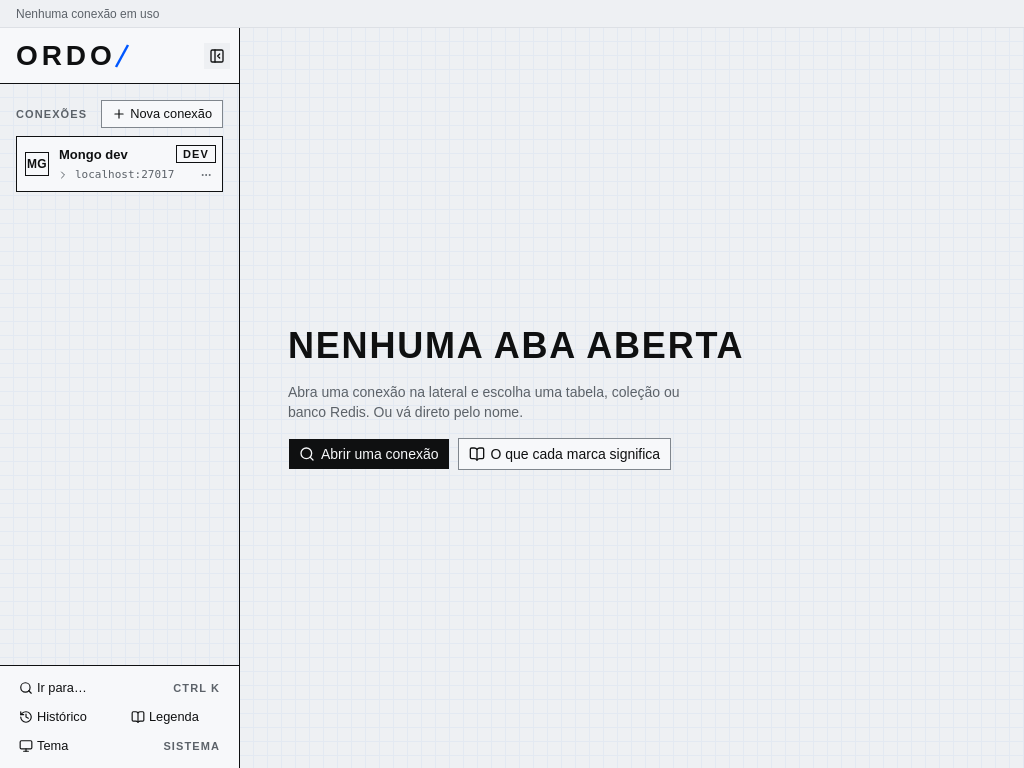
MongoDB opens databases and collections without a SQL editor
Click the list item "MG Mongo dev Dev localhost:27017": (120, 164) x1=17 y1=137 x2=222 y2=191
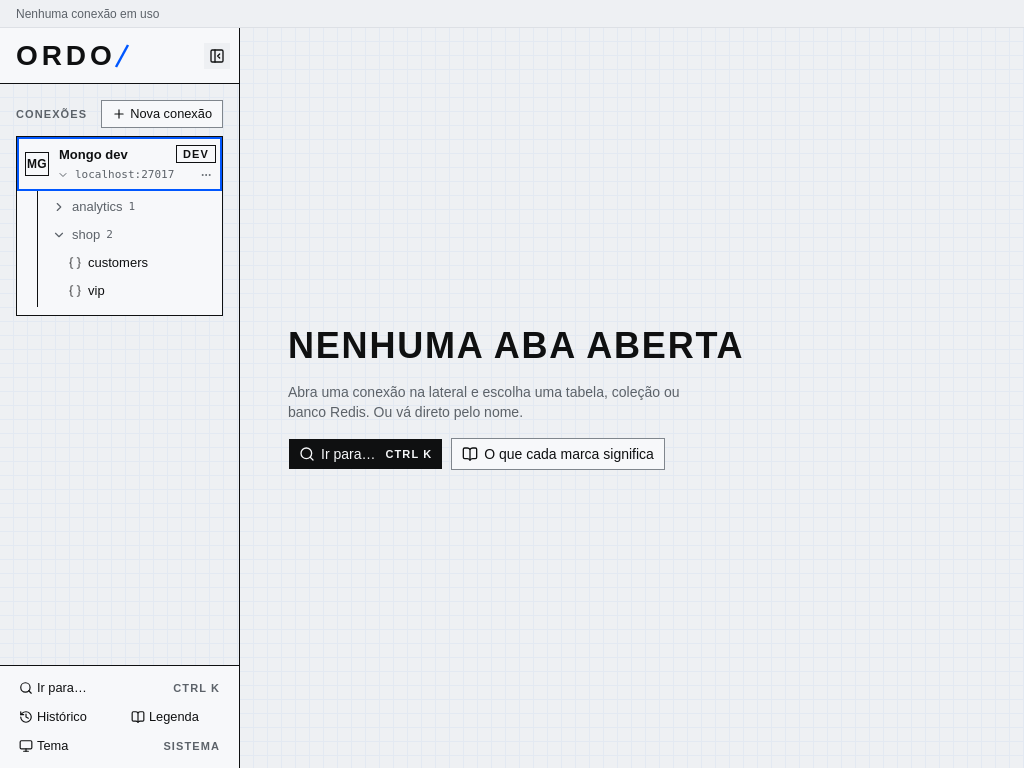
Expected: the list item "customers" is shown, x1=62 y1=249 x2=222 y2=277
